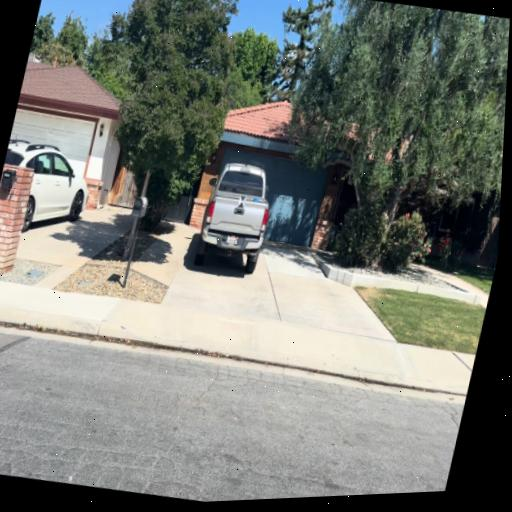target1: (237, 194, 247, 208)
